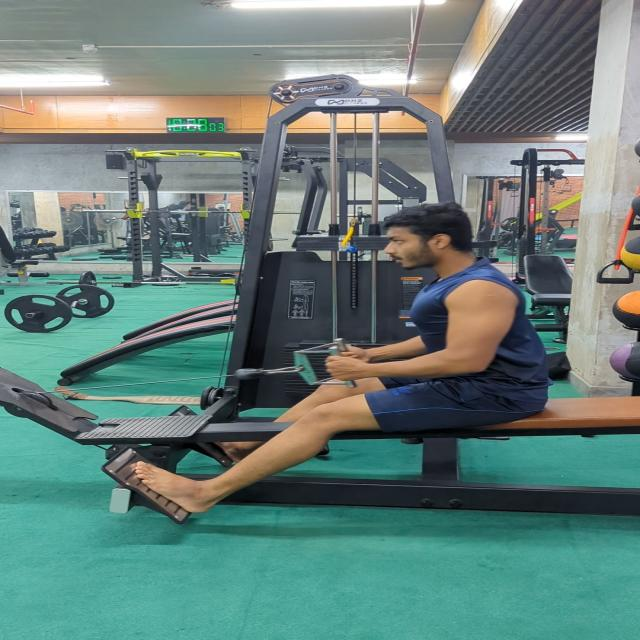Normal_RowingMachineExercise: (129, 202, 554, 518)
